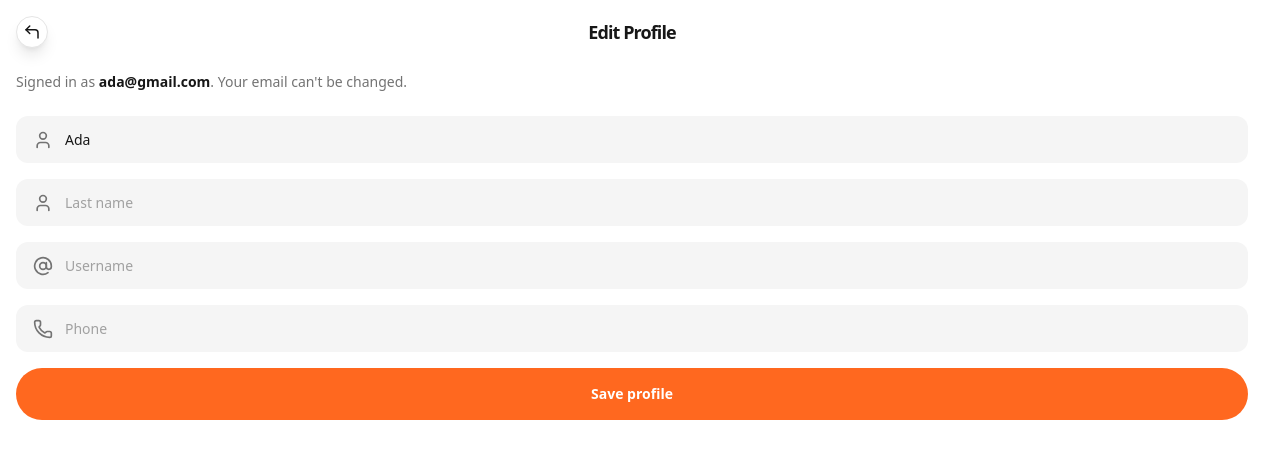
Scenario: Editing the profile (guide 10) › checks the username and phone, and shows a taken username
In the field with placeholder "Username": point(648, 266) [65, 255, 1231, 276], type "no spaces!"
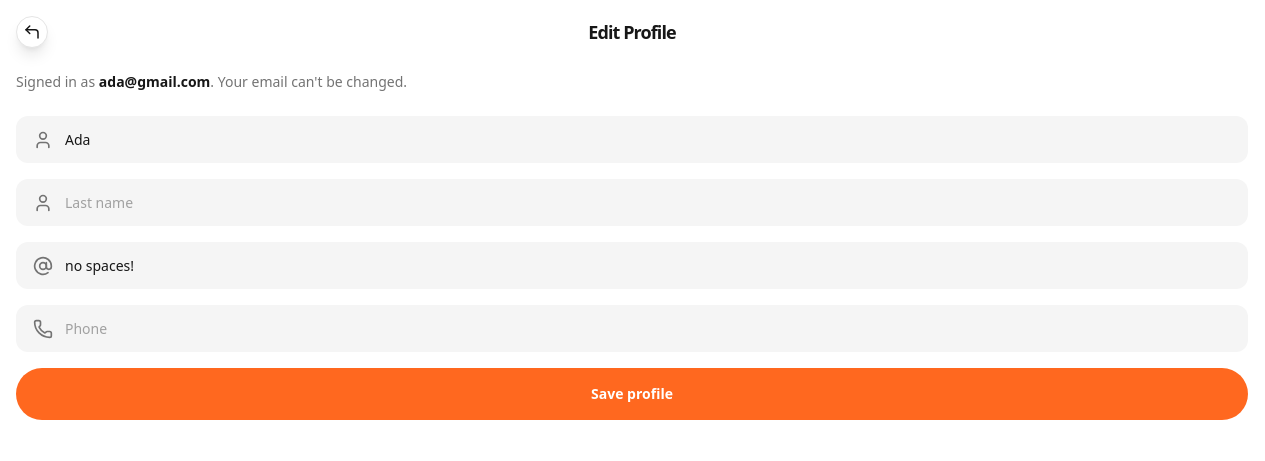
Click the button "Save profile": point(632, 394) [16, 368, 1248, 420]
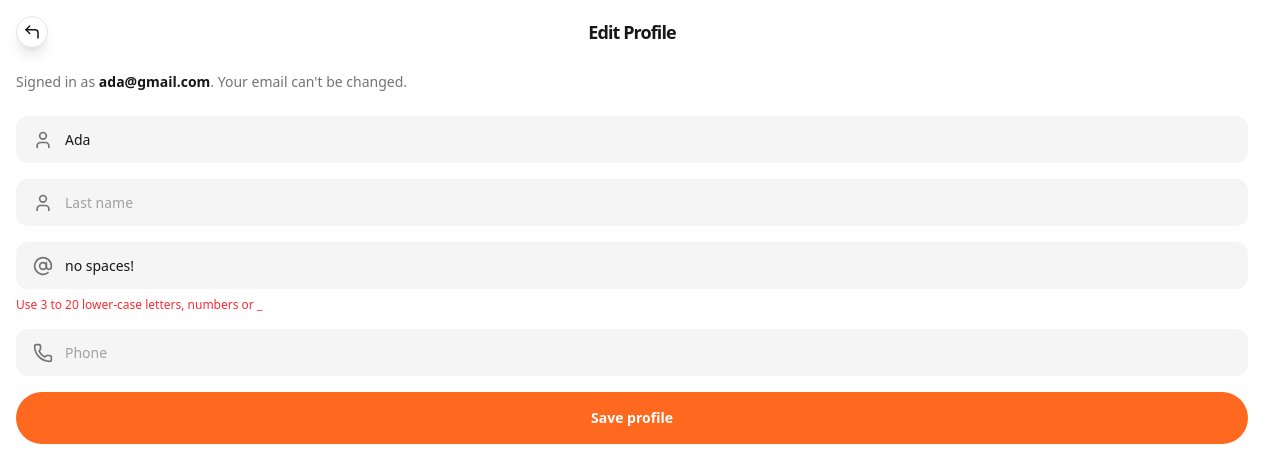
Expected: the message shows "3 to 20", [16, 296, 262, 313]
Replace the text in the 2nd field with placeholder "Username" with "kemi": point(648, 266) [65, 255, 1231, 276]
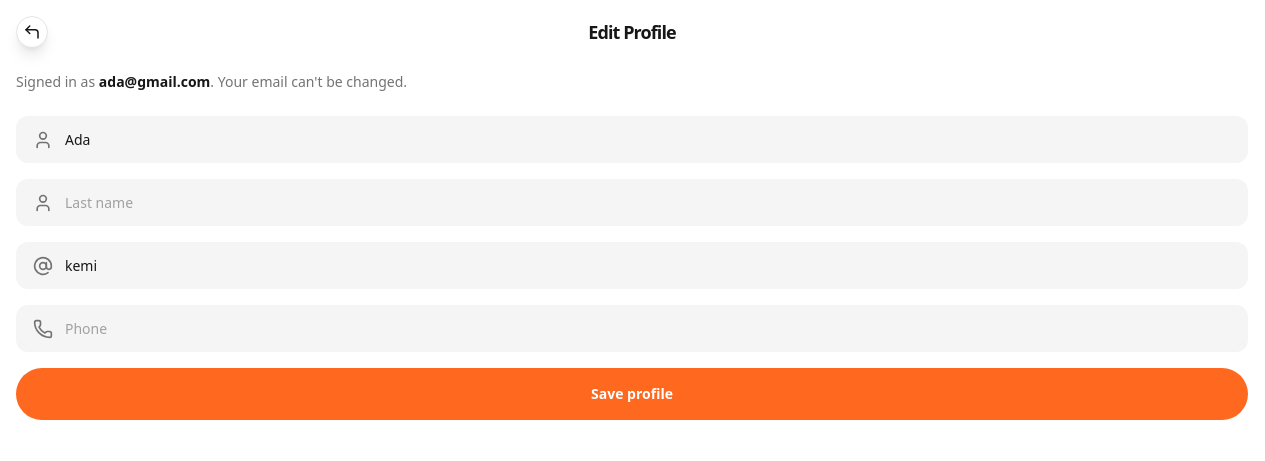
Click the button "Save profile": point(632, 394) [16, 368, 1248, 420]
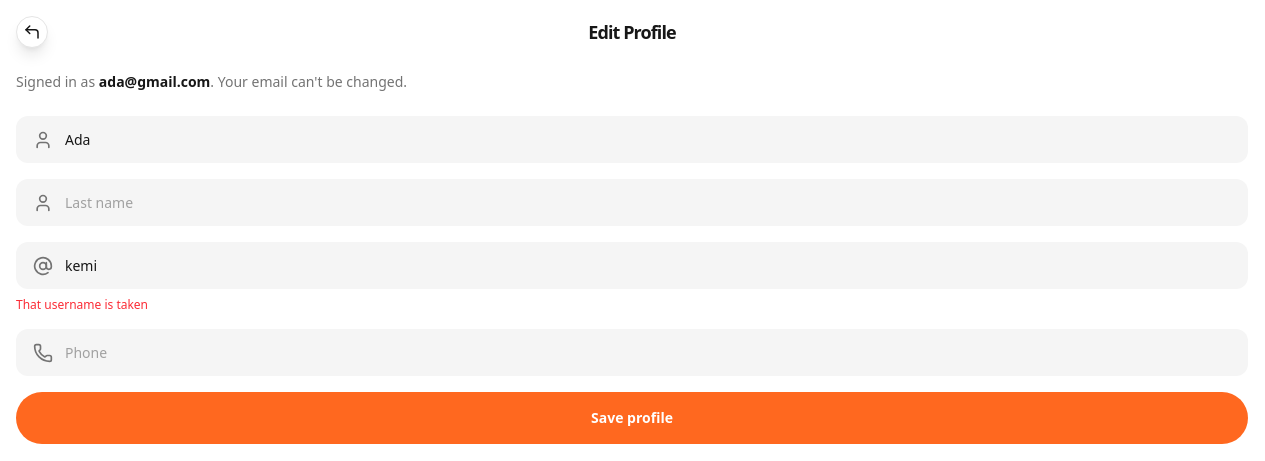
Expected: the message reads "That username is taken", [16, 296, 148, 313]
